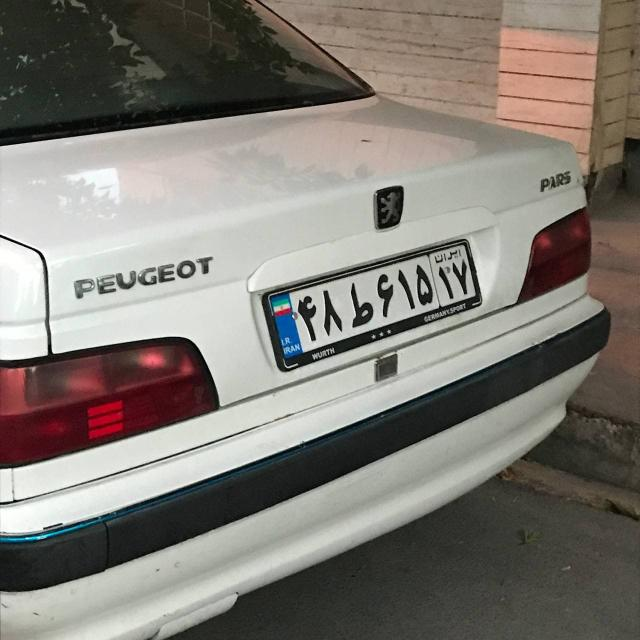Plates: (265, 234, 482, 359)
